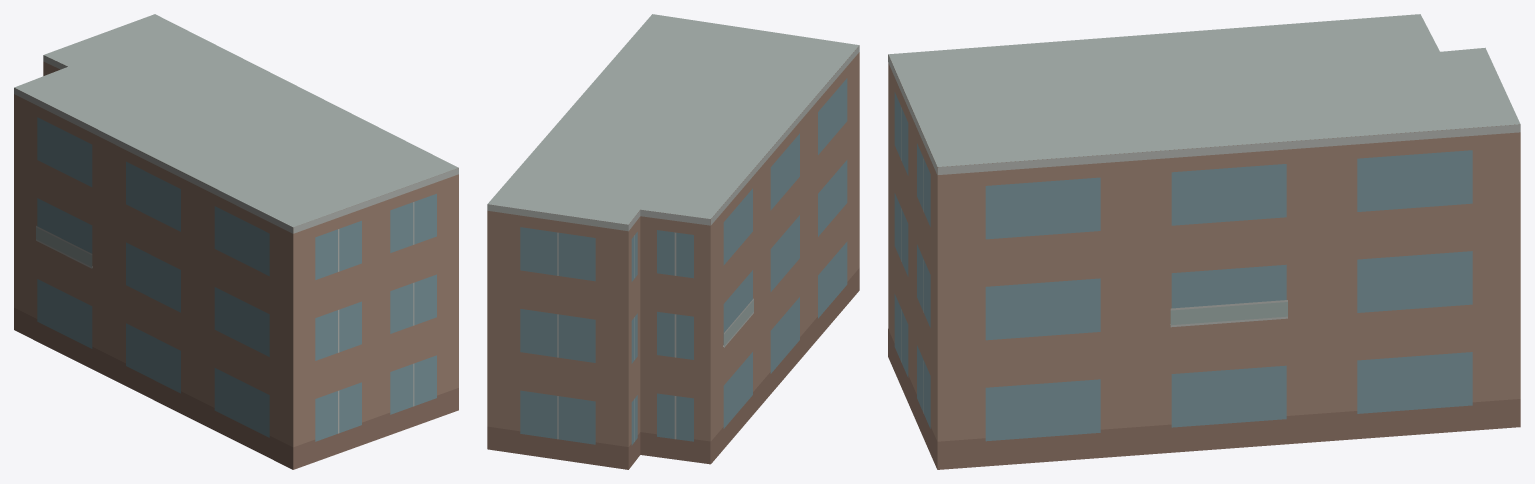
File: survey-upis-32707326.glb
3 renders of one model, left to right at view 1: azimuth 30°, elevation 25°; view 2: azimuth 150°, elevation 25°; view 3: azimuth 270°, elevation 25°, orthographic. The views are drawn at different scales.
Visible parts, largest first — view 1: survey-upis-32707326.tmp; view 2: survey-upis-32707326.tmp; view 3: survey-upis-32707326.tmp.
Part boxes in pixels (box(x1,y1,x2,y2)): survey-upis-32707326.tmp: box(14, 14, 458, 469); survey-upis-32707326.tmp: box(487, 14, 859, 469); survey-upis-32707326.tmp: box(888, 14, 1520, 469).
Size of the model in its own units: 9.93 by 9.15 by 17.33.
